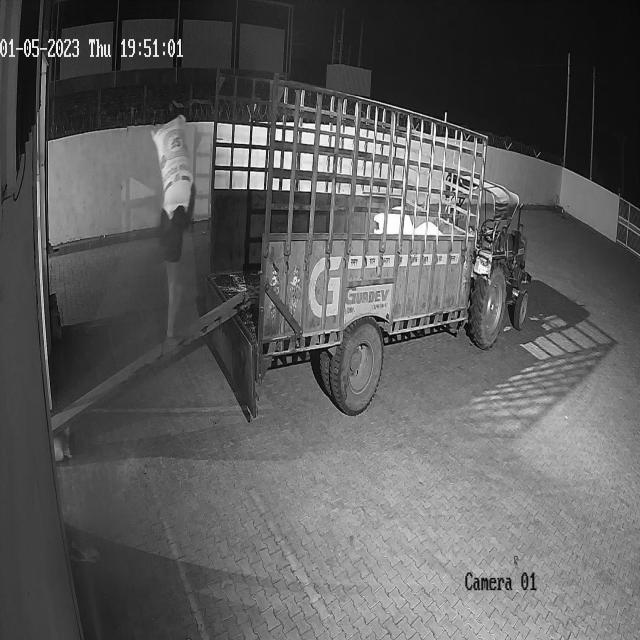sack: (150, 116, 194, 219)
